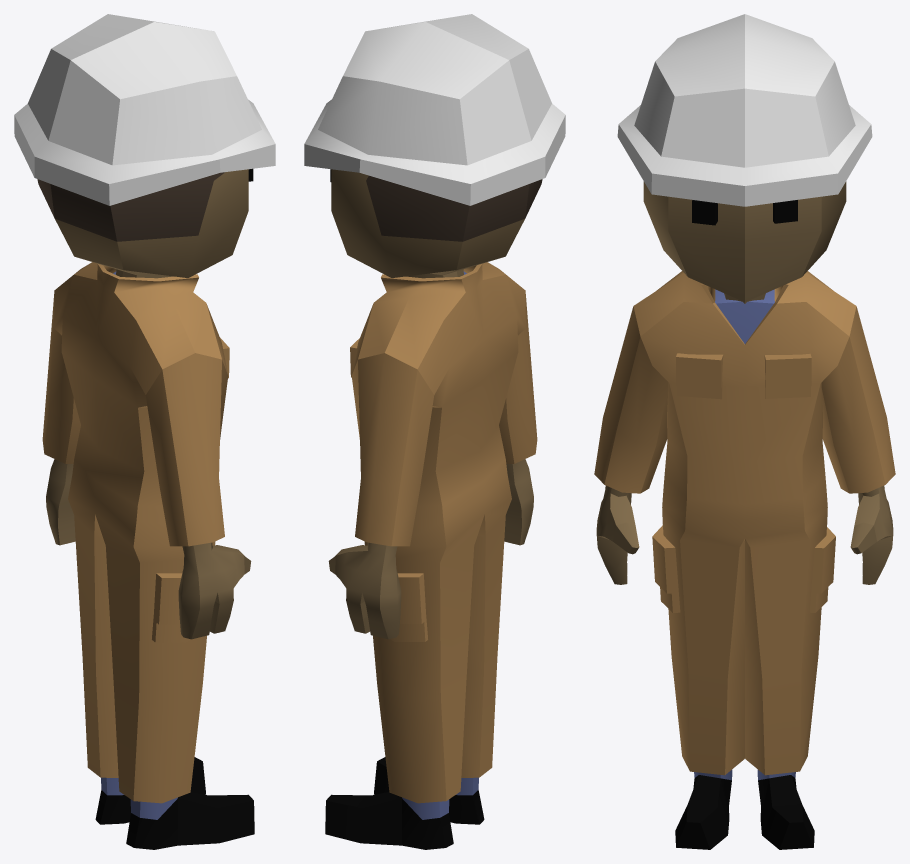
The model's file is Mechanic.fbx.
3 views of the same model, side by side, from view 1: azimuth 30°, elevation 25°; view 2: azimuth 150°, elevation 25°; view 3: azimuth 270°, elevation 25° (orthographic). The views are drawn at different scales.
Visible parts, largest first — view 1: geo_Mechanic; view 2: geo_Mechanic; view 3: geo_Mechanic.
Boxes of the visible parts, box(x1,y1,x2,y2) form: geo_Mechanic: box(14, 14, 275, 849); geo_Mechanic: box(304, 14, 565, 849); geo_Mechanic: box(594, 14, 895, 849).
Size of the model in its own units: 0.5127 by 1.79 by 0.6276.
